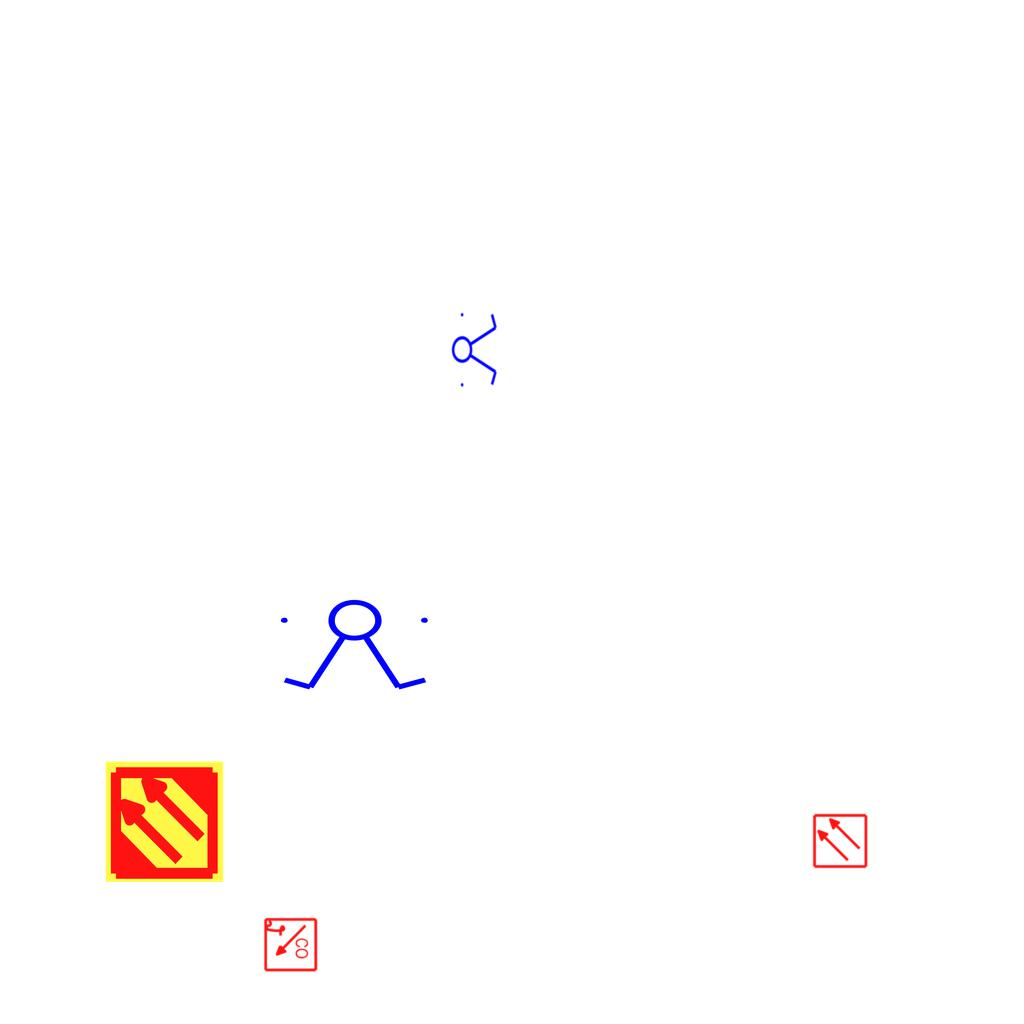ASR_Ansaugrauchmelder: (102, 759, 227, 884)
RMO_Rauchmelder_optischer: (812, 813, 868, 869)
ROA_Rauchmelder_optisch_mit_Signalgeber_(Sockelsirene): (262, 917, 318, 973)
Serienschalter: (272, 598, 440, 694), (451, 307, 499, 391)
